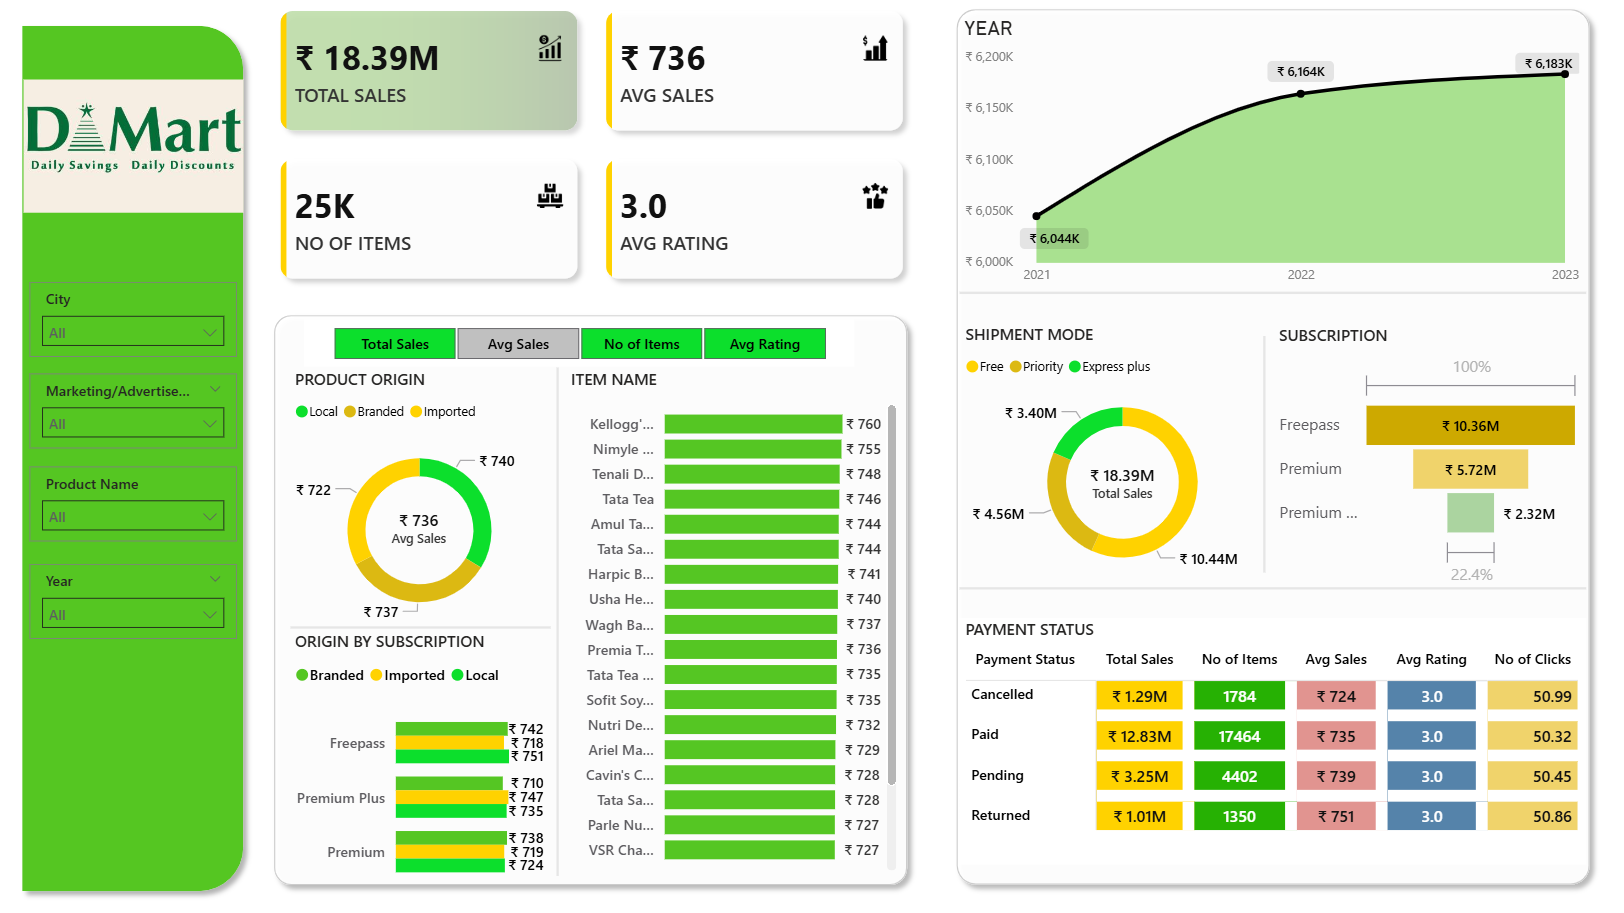

Layout of this report page (visuals, bound fields, positions):
{"tool":"powerbi","page":{"name":"DMart Dashboard","canvas":[1400,800],"ordinal":4},"visuals":[{"type":"shape","box":[21.7,25,205,750],"z":0},{"type":"cardVisual","fields":{"Data":["Dmart+Dataset_Tableau.Total Sales","Dmart+Dataset_Tableau.Average Sales","Dmart+Dataset_Tableau.No. of Items","Dmart+Dataset_Tableau.Average Rating"]},"box":[226.7,0,570,270],"z":1000},{"type":"shape","box":[235,270,553.3,500],"z":2000},{"type":"slicer","fields":{"Values":["Metrics.Metrics"]},"box":[268.3,283.3,465,40],"z":3000},{"type":"donutChart","title":"PRODUCT ORIGIN","fields":{"Y":["Dmart+Dataset_Tableau.Avg Rating"],"Category":["Dmart+Dataset_Tableau.Category"]},"box":[256.7,323.3,220,230],"z":4000},{"type":"cardVisual","fields":{"Data":["Dmart+Dataset_Tableau.Avg Rating"]},"box":[302.5,421.2,128.8,75],"z":5000},{"type":"clusteredBarChart","title":"ORIGIN BY SUBSCRIPTION","fields":{"Y":["Dmart+Dataset_Tableau.Avg Rating"],"Category":["Dmart+Dataset_Tableau.Subscription"],"Series":["Dmart+Dataset_Tableau.Category"]},"box":[256.7,545,220,230],"z":6000},{"type":"shape","box":[257.1,534.3,220,18.6],"z":7000},{"type":"shape","box":[477.1,322.9,12.9,430],"z":8000},{"type":"image","box":[31.4,80,185.7,112.9],"z":9000},{"type":"barChart","title":"ITEM NAME","fields":{"Y":["Dmart+Dataset_Tableau.Avg Rating"],"Category":["Dmart+Dataset_Tableau.Product Name"]},"box":[490,323.3,285,430],"z":10000},{"type":"shape","box":[811.7,11.7,553.3,758.3],"z":11000},{"type":"lineChart","title":"YEAR","fields":{"Category":["Dmart+Dataset_Tableau.Year"],"Y":["Dmart+Dataset_Tableau.Total Sales"]},"box":[822.5,26.2,530,235],"z":12000},{"type":"shape","box":[823.3,251.7,530,18.3],"z":13000},{"type":"donutChart","title":"SHIPMENT MODE","fields":{"Y":["Dmart+Dataset_Tableau.Total Sales"],"Category":["Dmart+Dataset_Tableau.Ship Mode"]},"box":[823.3,285,275,225],"z":14000},{"type":"shape","box":[1075,296.7,13.3,200],"z":15000},{"type":"funnel","title":"SUBSCRIPTION","fields":{"Y":["Sum(Dmart+Dataset_Tableau.total_order_value)"],"Category":["Dmart+Dataset_Tableau.Subscription"]},"box":[1088.3,286.7,265,226.7],"z":16000},{"type":"shape","box":[823.3,501.7,530,18.3],"z":17000},{"type":"pivotTable","title":"PAYMENT STATUS","fields":{"Values":["Dmart+Dataset_Tableau.Total Sales","Dmart+Dataset_Tableau.No of Items","Dmart+Dataset_Tableau.Avg Sales","Dmart+Dataset_Tableau.Avg Rating","Avg(Dmart+Dataset_Tableau.No of Clicks)"],"Rows":["Dmart+Dataset_Tableau.Payment Status"]},"box":[823.3,535,530,208.3],"z":18000},{"type":"slicer","fields":{"Values":["Dmart+Dataset_Tableau.City"]},"box":[36.7,251.7,175,63.3],"z":19000},{"type":"slicer","fields":{"Values":["Dmart+Dataset_Tableau.Marketing/Advertisement"]},"box":[36.7,328.3,175,63.3],"z":20000},{"type":"slicer","fields":{"Values":["Dmart+Dataset_Tableau.Product Name"]},"box":[36.7,406.7,175,63.3],"z":21000},{"type":"cardVisual","fields":{"Data":["Dmart+Dataset_Tableau.Total Sales"]},"box":[896.7,383.3,128.3,75],"z":22000}]}

Visuals, with their boxes in screenshot pixels (x1, y1, x2, y2), scaled from the page's 1400x800 canvas onto the 1624x913 screenshot:
shape: x1=25 y1=29 x2=263 y2=884
cardVisual - Dmart+Dataset_Tableau.Total Sales x Dmart+Dataset_Tableau.Average Sales: x1=263 y1=0 x2=924 y2=308
shape: x1=273 y1=308 x2=914 y2=879
slicer - Metrics.Metrics: x1=311 y1=323 x2=851 y2=369
"PRODUCT ORIGIN" donutChart: x1=298 y1=369 x2=553 y2=631
cardVisual - Dmart+Dataset_Tableau.Avg Rating: x1=351 y1=481 x2=500 y2=566
"ORIGIN BY SUBSCRIPTION" clusteredBarChart: x1=298 y1=622 x2=553 y2=884
shape: x1=298 y1=610 x2=553 y2=631
shape: x1=553 y1=369 x2=568 y2=859
image: x1=36 y1=91 x2=252 y2=220
"ITEM NAME" barChart: x1=568 y1=369 x2=899 y2=860
shape: x1=942 y1=13 x2=1583 y2=879
"YEAR" lineChart: x1=954 y1=30 x2=1569 y2=298
shape: x1=955 y1=287 x2=1570 y2=308
"SHIPMENT MODE" donutChart: x1=955 y1=325 x2=1274 y2=582
shape: x1=1247 y1=339 x2=1262 y2=567
"SUBSCRIPTION" funnel: x1=1262 y1=327 x2=1570 y2=586
shape: x1=955 y1=573 x2=1570 y2=593
"PAYMENT STATUS" pivotTable: x1=955 y1=611 x2=1570 y2=848
slicer - Dmart+Dataset_Tableau.City: x1=43 y1=287 x2=246 y2=359
slicer - Dmart+Dataset_Tableau.Marketing/Advertisement: x1=43 y1=375 x2=246 y2=447
slicer - Dmart+Dataset_Tableau.Product Name: x1=43 y1=464 x2=246 y2=536
cardVisual - Dmart+Dataset_Tableau.Total Sales: x1=1040 y1=437 x2=1189 y2=523
